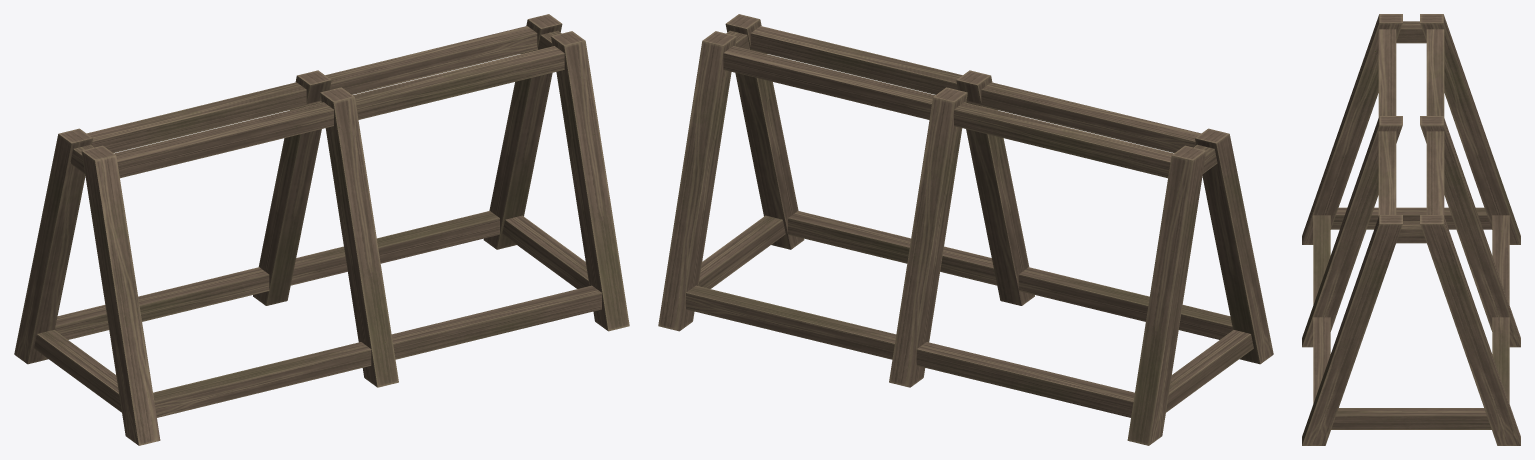
Rendered from SM_weaponstand_01.fbx.
The picture shows the model from 3 angles, left to right: view 1: azimuth 30°, elevation 25°; view 2: azimuth 150°, elevation 25°; view 3: azimuth 270°, elevation 25°; orthographic projection. The views are drawn at different scales.
Visible parts, largest first — view 1: Object32632; view 2: Object32632; view 3: Object32632.
Boxes of the visible parts, left/top/right/bottom form: Object32632: left=14, top=14, right=629, bottom=445; Object32632: left=658, top=14, right=1273, bottom=445; Object32632: left=1302, top=14, right=1520, bottom=445.
Size of the model in its own units: 84.53 by 41.66 by 37.25.
